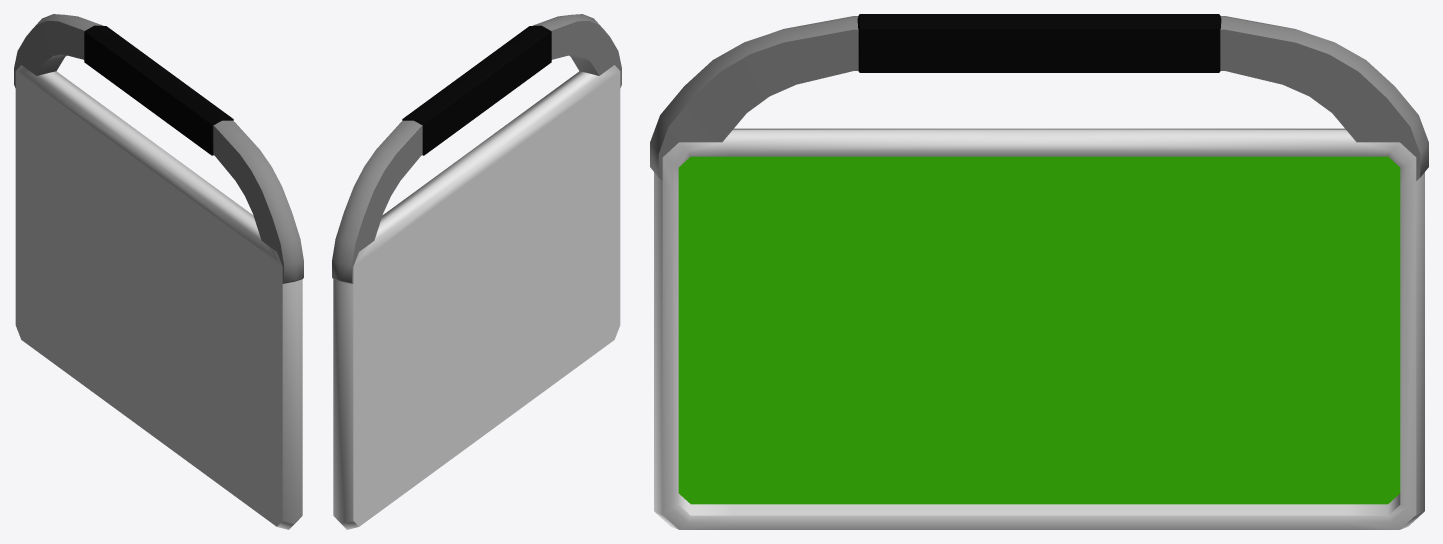
Rendered from Pantallita.fbx.
3 renders of one model, left to right at view 1: azimuth 30°, elevation 25°; view 2: azimuth 150°, elevation 25°; view 3: azimuth 270°, elevation 25°, orthographic. The views are drawn at different scales.
Parts seen in each view (by area): view 1: Cube; view 2: Cube; view 3: Cube.
Boxes of the visible parts, <box> form: Cube: <box>14,14,303,529</box>; Cube: <box>332,14,621,529</box>; Cube: <box>650,14,1428,529</box>.
Bounding box in the file's own units: 0.0221 × 0.3438 × 0.4757.
